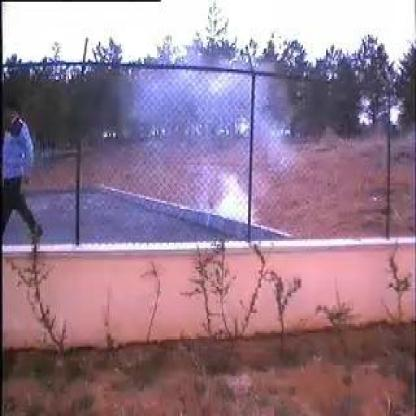-: (129, 62, 273, 222)
